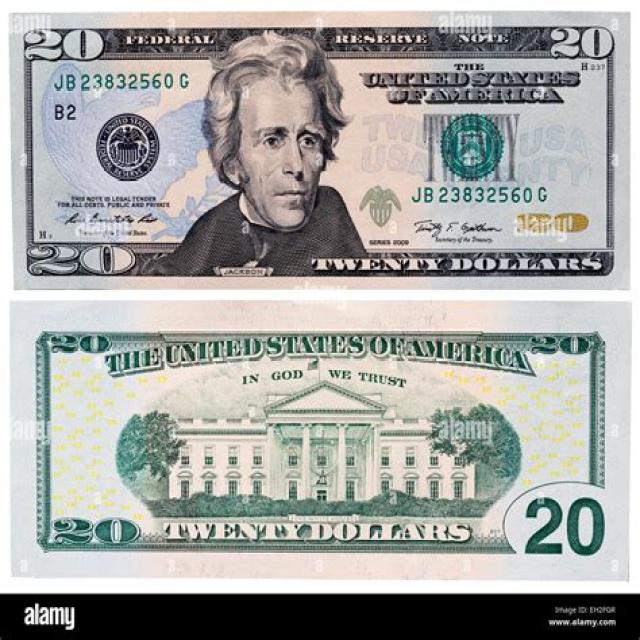Twenty: (4, 9, 634, 291), (7, 300, 629, 582)
